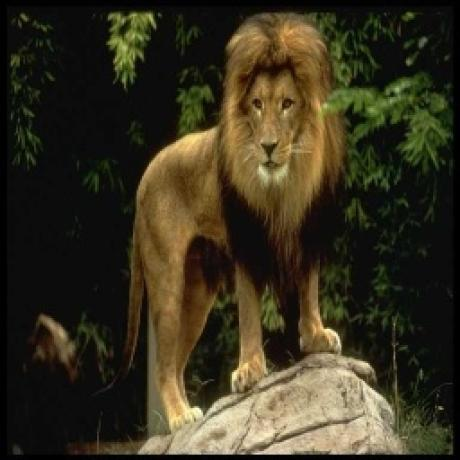Lion: (90, 12, 345, 430)
